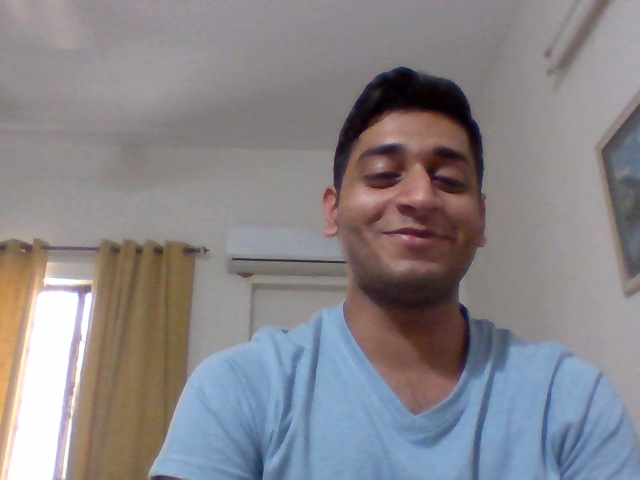happy: (357, 108, 474, 307)
